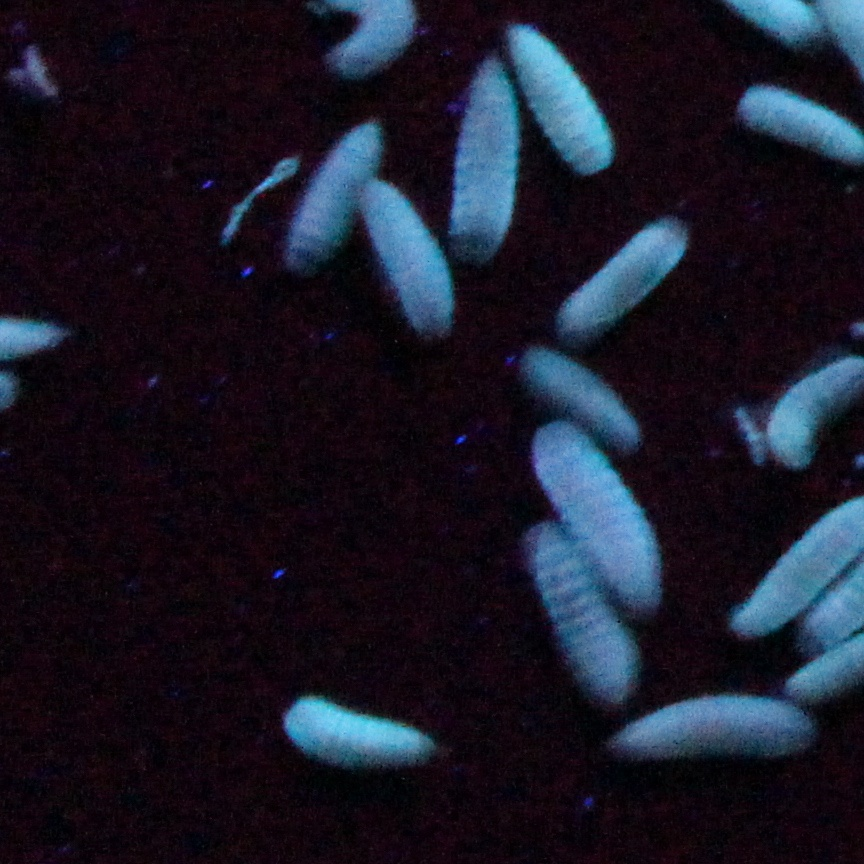larve: (537, 425, 652, 602), (521, 531, 633, 696), (558, 208, 693, 333), (613, 688, 819, 768), (507, 21, 609, 168), (354, 180, 450, 335), (288, 694, 452, 772), (295, 121, 380, 267), (521, 347, 641, 445), (458, 55, 509, 253)
